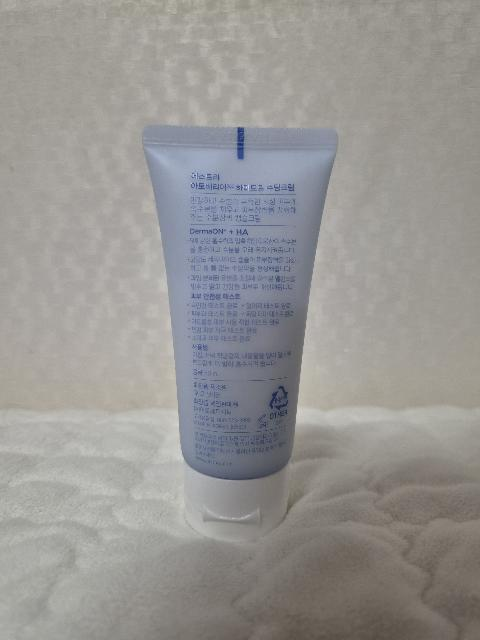handcream: (142, 124, 338, 542)
